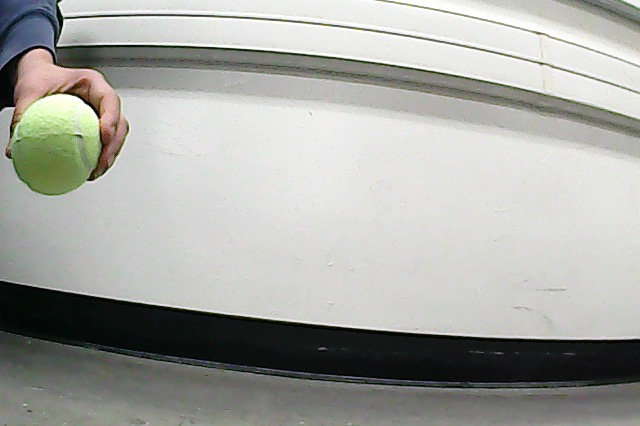ball: (11, 93, 105, 198)
